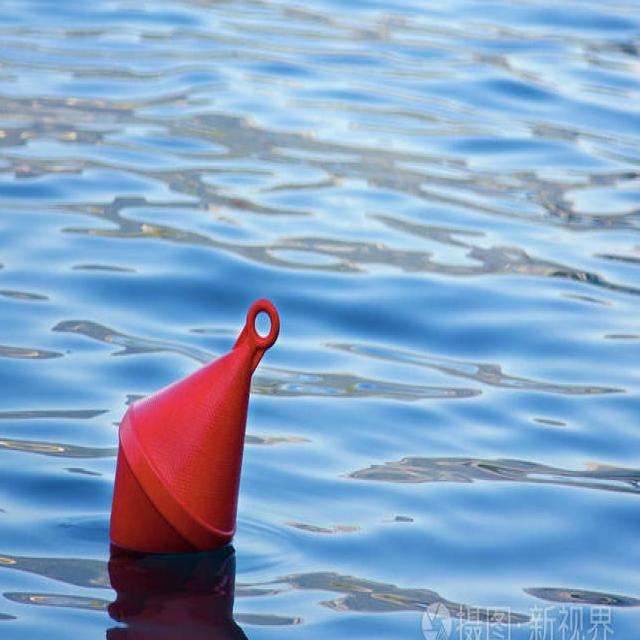buoy: (109, 294, 282, 564)
